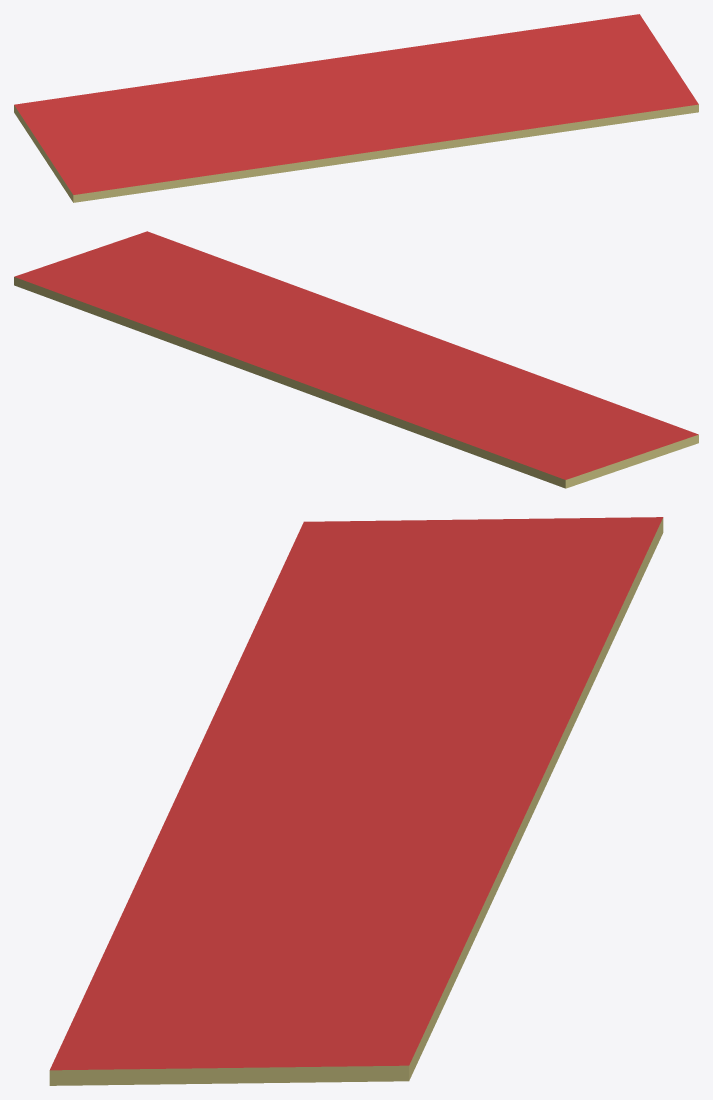
3 renders of one model, top to bottom at view 1: azimuth 30°, elevation 25°; view 2: azimuth 150°, elevation 25°; view 3: azimuth 270°, elevation 25°, orthographic. The views are drawn at different scales.
Bounding box in the file's own units: 7.95 × 3.57 × 0.321.
